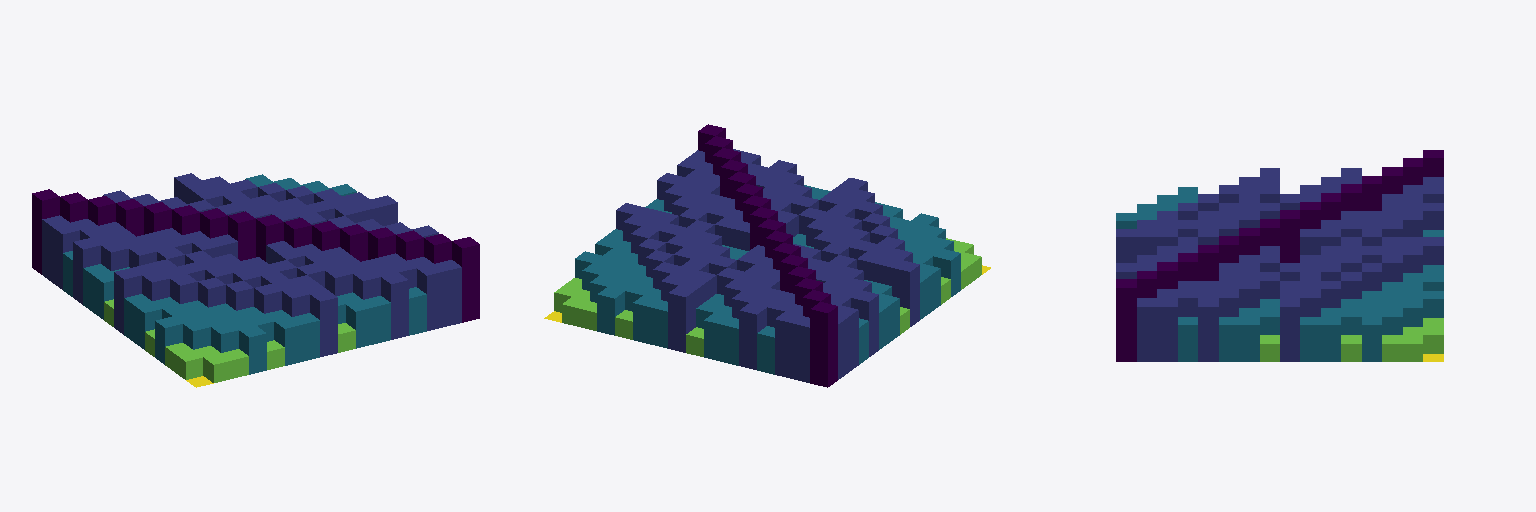
3 views of the same model, side by side, from view 1: azimuth 30°, elevation 25°; view 2: azimuth 150°, elevation 25°; view 3: azimuth 270°, elevation 25° (orthographic).
Parts seen in each view (by area): view 1: Object(16,16)[length_4], Object(8,16)[length_3], Object(12,16)[length_3], Object(14,16)[length_3], Object(1,1)[length_4], Object(15,16)[length_3], Object(1,5)[length_3], Object(1,9)[length_3], Object(8,8)[length_4], Object(1,3)[length_3], Object(4,16)[length_2], Object(10,16)[length_2] (+28 smaller); view 2: Object(1,1)[length_4], Object(9,1)[length_3], Object(5,1)[length_3], Object(1,9)[length_3], Object(3,1)[length_3], Object(2,1)[length_3], Object(13,1)[length_2], Object(1,5)[length_3], Object(7,1)[length_2], Object(1,13)[length_2], Object(11,1)[length_2], Object(4,1)[length_2] (+5 smaller); view 3: Object(16,16)[length_4], Object(16,12)[length_3], Object(16,14)[length_3], Object(16,8)[length_3], Object(16,15)[length_3], Object(8,8)[length_4], Object(16,7)[length_2], Object(16,10)[length_2], Object(16,4)[length_2], Object(16,6)[length_2], Object(16,11)[length_2], Object(16,13)[length_2] (+28 smaller).
Part boxes in pixels (bbox=[...]): Object(16,16)[length_4]: bbox=[452, 237, 479, 322]; Object(8,16)[length_3]: bbox=[310, 290, 337, 356]; Object(12,16)[length_3]: bbox=[381, 273, 408, 339]; Object(14,16)[length_3]: bbox=[417, 264, 444, 330]; Object(1,1)[length_4]: bbox=[32, 189, 59, 274]; Object(15,16)[length_3]: bbox=[435, 260, 461, 326]; Object(1,5)[length_3]: bbox=[73, 238, 100, 304]; Object(1,9)[length_3]: bbox=[114, 268, 141, 334]; Object(8,8)[length_4]: bbox=[228, 211, 255, 260]; Object(1,3)[length_3]: bbox=[52, 223, 79, 289]; Object(4,16)[length_2]: bbox=[239, 326, 266, 374]; Object(10,16)[length_2]: bbox=[346, 300, 373, 348]; Object(1,1)[length_4]: bbox=[810, 302, 837, 387]; Object(9,1)[length_3]: bbox=[668, 286, 695, 352]; Object(5,1)[length_3]: bbox=[739, 303, 766, 369]; Object(1,9)[length_3]: bbox=[892, 260, 919, 326]; Object(3,1)[length_3]: bbox=[775, 312, 801, 378]; Object(2,1)[length_3]: bbox=[793, 316, 809, 382]; Object(13,1)[length_2]: bbox=[597, 287, 624, 335]; Object(1,5)[length_3]: bbox=[851, 290, 878, 356]; Object(7,1)[length_2]: bbox=[704, 313, 730, 361]; Object(1,13)[length_2]: bbox=[933, 249, 960, 296]; Object(11,1)[length_2]: bbox=[633, 296, 659, 343]; Object(4,1)[length_2]: bbox=[757, 326, 774, 374]; Object(16,16)[length_4]: bbox=[1116, 279, 1136, 361]; Object(16,12)[length_3]: bbox=[1198, 298, 1218, 361]; Object(16,14)[length_3]: bbox=[1157, 298, 1177, 361]; Object(16,8)[length_3]: bbox=[1280, 298, 1299, 361]; Object(16,15)[length_3]: bbox=[1137, 298, 1156, 361]; Object(8,8)[length_4]: bbox=[1280, 210, 1299, 262]; Object(16,7)[length_2]: bbox=[1300, 317, 1320, 361]; Object(16,10)[length_2]: bbox=[1239, 317, 1259, 361]; Object(16,4)[length_2]: bbox=[1362, 317, 1381, 361]; Object(16,6)[length_2]: bbox=[1321, 317, 1340, 361]; Object(16,11)[length_2]: bbox=[1219, 317, 1238, 361]; Object(16,13)[length_2]: bbox=[1178, 317, 1197, 361].
Size of the model in its own units: 16 by 4 by 16.